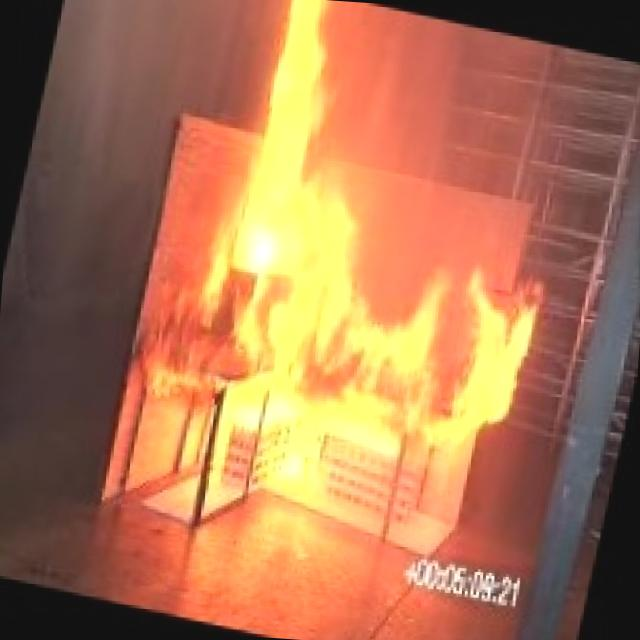fire: (125, 0, 602, 557)
